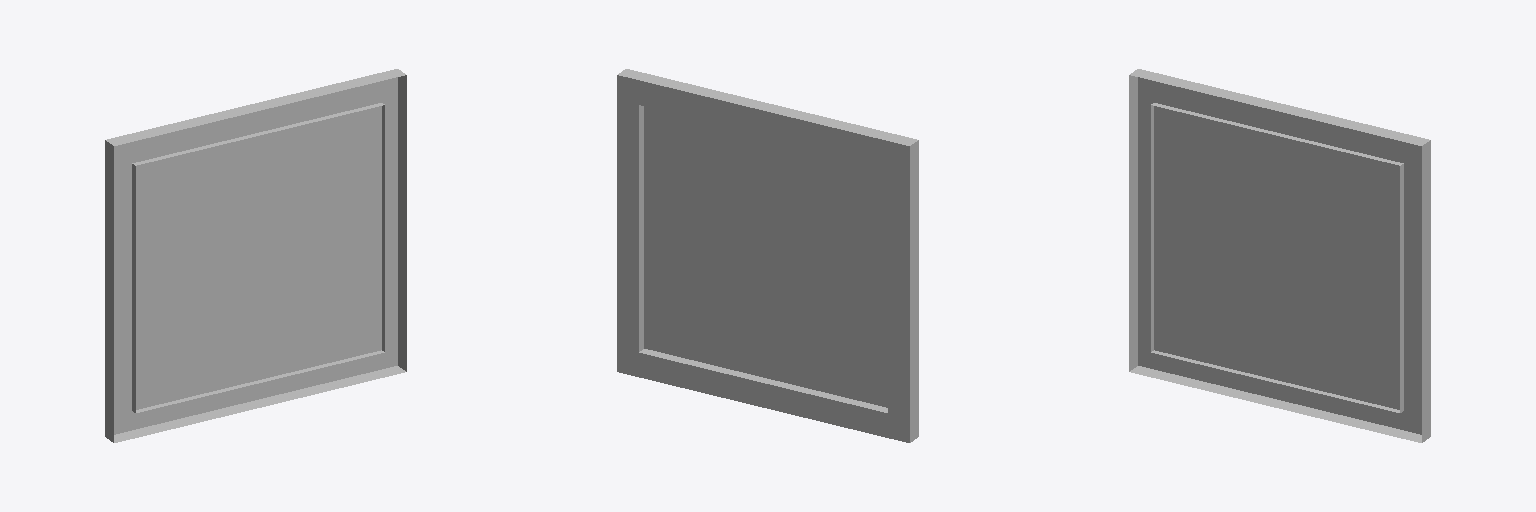
File: painting1.obj
3 renders of one model, left to right at view 1: azimuth 30°, elevation 25°; view 2: azimuth 150°, elevation 25°; view 3: azimuth 330°, elevation 25°, orthographic.
Visible parts, largest first — view 1: Geoset_000.001, Geoset_000; view 2: Geoset_000.001, Geoset_000; view 3: Geoset_000.001, Geoset_000.
Boxes of the visible parts, <box> form: Geoset_000.001: <box>126,88,387,425</box>; Geoset_000: <box>105,69,406,442</box>; Geoset_000.001: <box>644,106,887,407</box>; Geoset_000: <box>617,69,918,442</box>; Geoset_000.001: <box>1147,88,1408,425</box>; Geoset_000: <box>1129,69,1430,442</box>.
Size of the model in its own units: 4.24 by 4.12 by 0.2223.